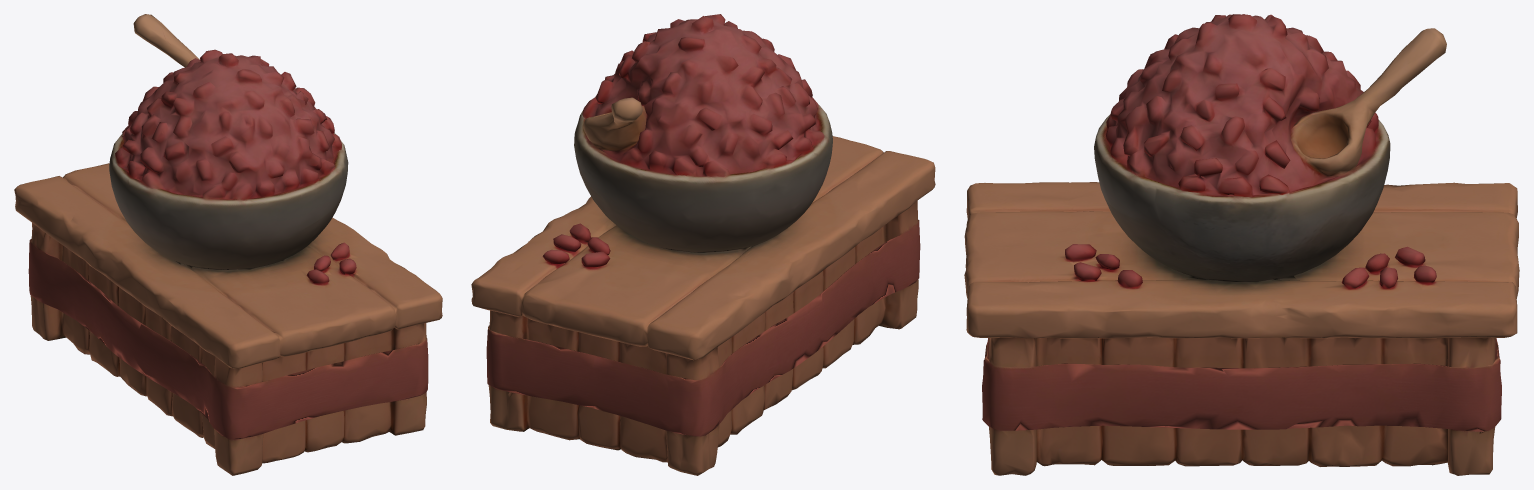
Rendered from KR_사물_s1_station_topping_t1_v2.glb.
3 views of the same model, side by side, from view 1: azimuth 30°, elevation 25°; view 2: azimuth 150°, elevation 25°; view 3: azimuth 270°, elevation 25° (orthographic). The views are drawn at different scales.
Parts seen in each view (by area): view 1: tripo_node_4b886496-8ee5-4b4a-b091-50ee6c73e5e5; view 2: tripo_node_4b886496-8ee5-4b4a-b091-50ee6c73e5e5; view 3: tripo_node_4b886496-8ee5-4b4a-b091-50ee6c73e5e5.
Boxes of the visible parts, box(x1,y1,x2,y2) form: tripo_node_4b886496-8ee5-4b4a-b091-50ee6c73e5e5: box(14, 14, 442, 475); tripo_node_4b886496-8ee5-4b4a-b091-50ee6c73e5e5: box(471, 14, 935, 475); tripo_node_4b886496-8ee5-4b4a-b091-50ee6c73e5e5: box(964, 14, 1519, 475).
Size of the model in its own units: 0.5572 by 0.8065 by 1.
Materials: 1 (1 with a texture image).
